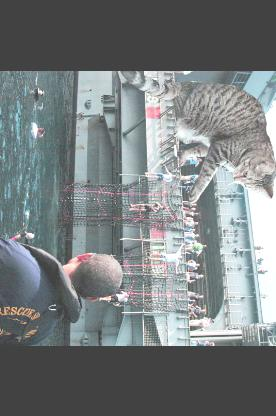F15: (259, 71, 275, 115)
